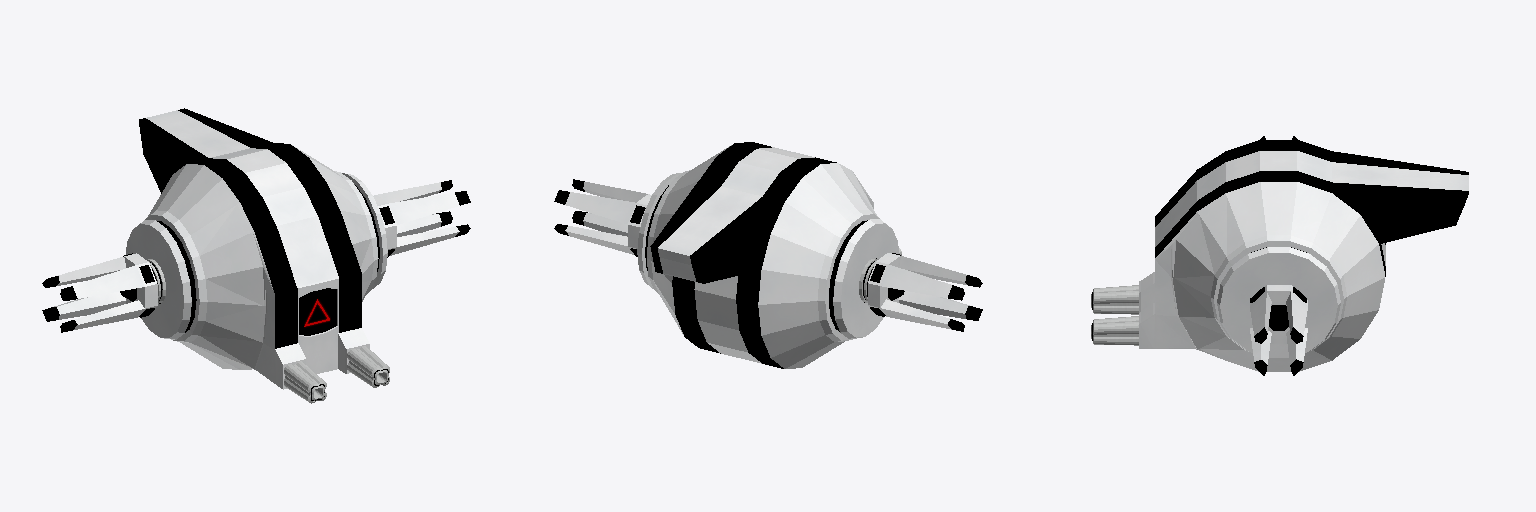
3 renders of one model, left to right at view 1: azimuth 30°, elevation 25°; view 2: azimuth 150°, elevation 25°; view 3: azimuth 270°, elevation 25°, orthographic.
Parts seen in each view (by area): view 1: DroidSF3_Cylinder.012, Wings_Cylinder.021, Canons_Cylinder.014, FrontDisplay_Cube.001; view 2: DroidSF3_Cylinder.012, Wings_Cylinder.021; view 3: DroidSF3_Cylinder.012, Wings_Cylinder.021, Canons_Cylinder.014.
Boxes of the visible parts, x1,y1,x2,y2 form: DroidSF3_Cylinder.012: [126, 108, 387, 389]; Wings_Cylinder.021: [42, 180, 470, 332]; Canons_Cylinder.014: [284, 346, 389, 403]; FrontDisplay_Cube.001: [299, 288, 336, 335]; DroidSF3_Cylinder.012: [637, 142, 898, 368]; Wings_Cylinder.021: [554, 179, 982, 331]; DroidSF3_Cylinder.012: [1139, 140, 1468, 371]; Wings_Cylinder.021: [1250, 136, 1307, 375]; Canons_Cylinder.014: [1091, 285, 1138, 345].
Bounding box in the file's own units: 2.97 × 1.33 × 2.4.
1 materials, 1 textured.